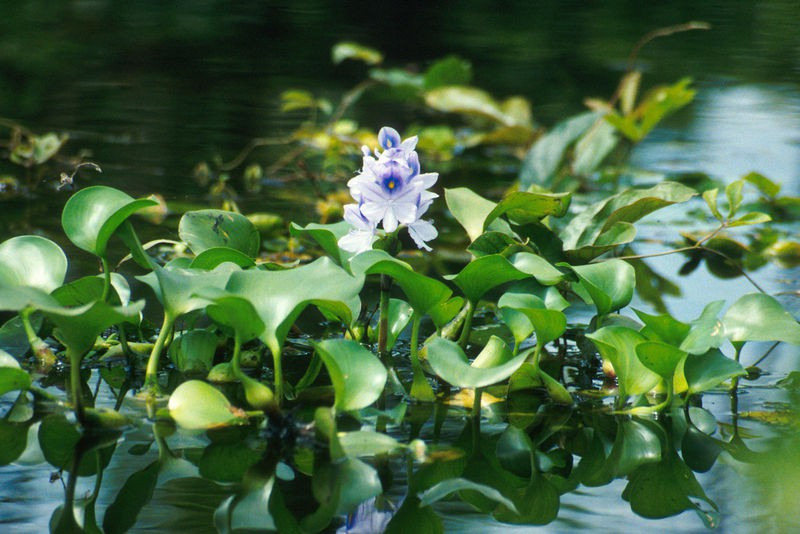water_hyacinth: (3, 125, 797, 459)
